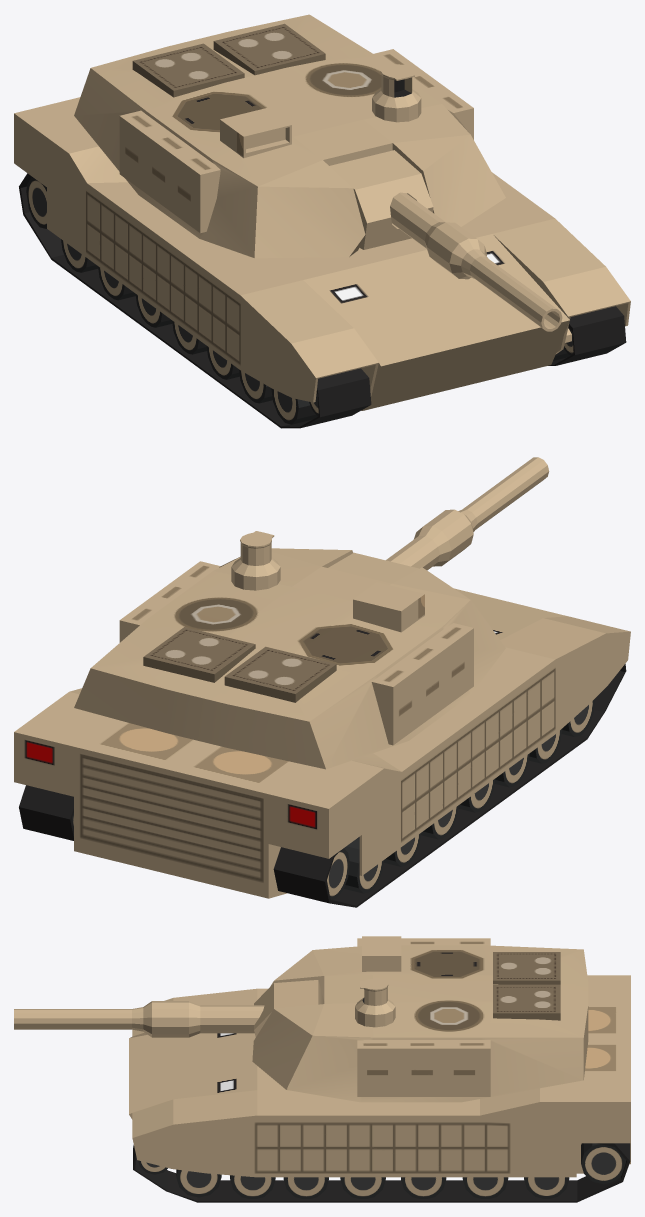
Rendered from Tank_03.fbx.
The picture shows the model from 3 angles, top to bottom: view 1: azimuth 30°, elevation 25°; view 2: azimuth 150°, elevation 25°; view 3: azimuth 270°, elevation 25°; orthographic projection. The views are drawn at different scales.
Parts seen in each view (by area): view 1: Tank_03_Body1, Tank_03_UpperBody1, Tank_03_Chain01, Main_Gun, Main_Gun_Body, Tank_03_Chain02, Tank_03_BodyPart, Tank_03_Wheel01, Tank_03_Wheel18, Tank_03_Wheel06, Tank_03_Wheel14, Tank_03_Wheel12 (+2 smaller); view 2: Tank_03_Body1, Tank_03_UpperBody1, Tank_03_Chain01, Main_Gun, Tank_03_Chain02, Tank_03_BodyPart, Main_Gun_Body, Tank_03_Wheel16, Tank_03_Wheel18; view 3: Tank_03_Body1, Tank_03_UpperBody1, Main_Gun, Tank_03_Chain02, Main_Gun_Body, Tank_03_BodyPart, Tank_03_Wheel17, Tank_03_Wheel02, Tank_03_Wheel05, Tank_03_Wheel07, Tank_03_Wheel09, Tank_03_Wheel13 (+2 smaller).
Part boxes in pixels (<box>): Tank_03_Body1: <box>14,97,630,410</box>; Tank_03_UpperBody1: <box>74,14,505,258</box>; Tank_03_Chain01: <box>19,173,371,428</box>; Main_Gun: <box>390,192,562,331</box>; Main_Gun_Body: <box>329,150,433,249</box>; Tank_03_Chain02: <box>548,306,626,365</box>; Tank_03_BodyPart: <box>372,64,421,122</box>; Tank_03_Wheel01: <box>271,388,317,424</box>; Tank_03_Wheel18: <box>26,177,46,228</box>; Tank_03_Wheel06: <box>239,369,272,403</box>; Tank_03_Wheel14: <box>98,266,135,300</box>; Tank_03_Wheel12: <box>135,294,172,327</box>; Tank_03_Body1: <box>14,588,630,898</box>; Tank_03_UpperBody1: <box>74,548,505,769</box>; Tank_03_Chain01: <box>273,664,626,907</box>; Main_Gun: <box>386,457,549,570</box>; Tank_03_Chain02: <box>19,785,73,840</box>; Tank_03_BodyPart: <box>231,531,280,590</box>; Main_Gun_Body: <box>328,552,418,583</box>; Tank_03_Wheel16: <box>344,837,383,893</box>; Tank_03_Wheel18: <box>327,848,349,899</box>; Tank_03_Body1: <box>129,975,630,1177</box>; Tank_03_UpperBody1: <box>252,936,588,1102</box>; Main_Gun: <box>14,1001,264,1037</box>; Tank_03_Chain02: <box>133,1143,630,1202</box>; Main_Gun_Body: <box>254,980,324,1037</box>; Tank_03_BodyPart: <box>355,978,395,1027</box>; Tank_03_Wheel17: <box>581,1143,625,1184</box>; Tank_03_Wheel02: <box>176,1169,221,1197</box>; Tank_03_Wheel05: <box>230,1175,275,1198</box>; Tank_03_Wheel07: <box>283,1177,328,1198</box>; Tank_03_Wheel09: <box>340,1177,385,1198</box>; Tank_03_Wheel13: <box>462,1177,508,1198</box>.
Size of the model in its own units: 52.14 by 35.46 by 107.
